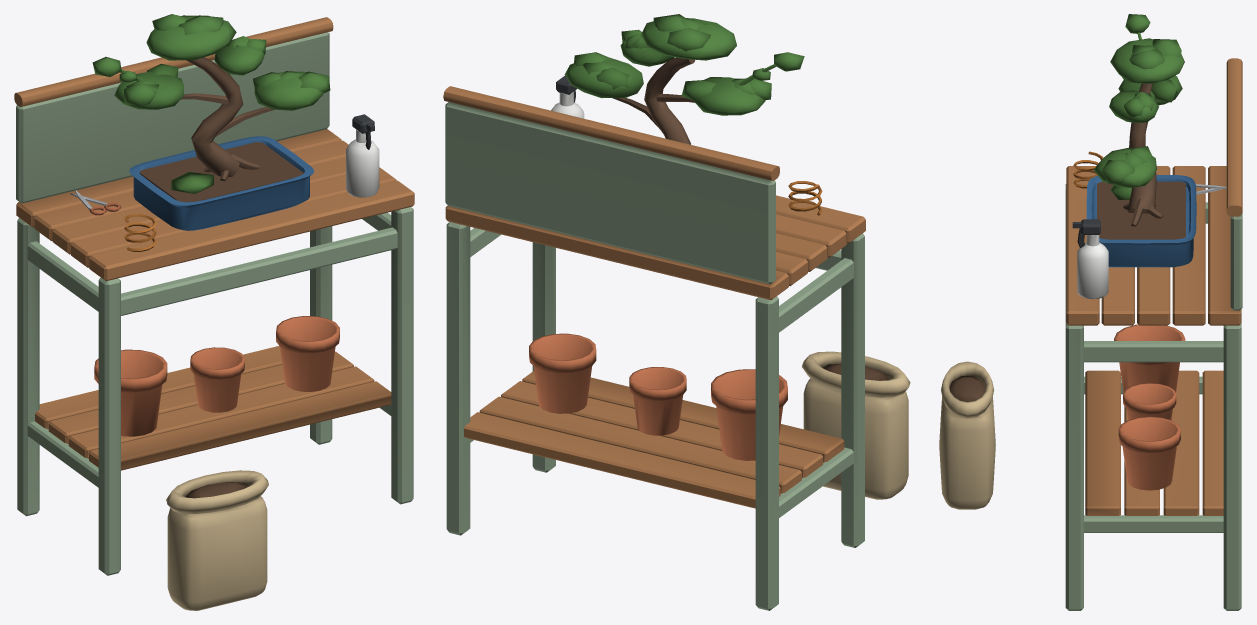
File: bonsaiBench.glb
3 views of the same model, side by side, from view 1: azimuth 30°, elevation 25°; view 2: azimuth 150°, elevation 25°; view 3: azimuth 270°, elevation 25° (orthographic). The views are drawn at different scales.
Visible parts, largest first — view 1: body, twig; view 2: body, twig; view 3: body, twig.
Boxes of the visible parts, bbox=[...] form: body: bbox=[14, 14, 414, 610]; twig: bbox=[92, 57, 143, 82]; body: bbox=[443, 14, 910, 610]; twig: bbox=[738, 52, 804, 85]; body: bbox=[939, 38, 1242, 610]; twig: bbox=[1125, 14, 1150, 39].
Bounding box in the file's own units: 0.86 × 1.31 × 0.75.
